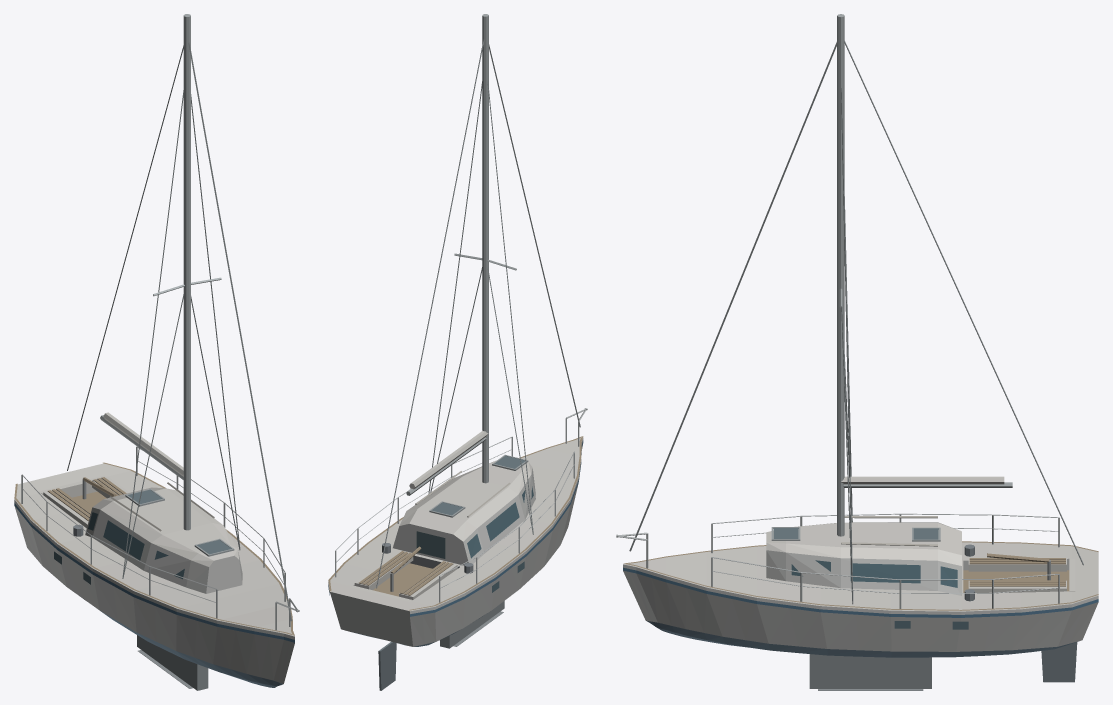
The model's file is kjp_sun_odyssey_24_2.glb.
3 views of the same model, side by side, from view 1: azimuth 30°, elevation 25°; view 2: azimuth 150°, elevation 25°; view 3: azimuth 270°, elevation 25° (orthographic). The views are drawn at different scales.
Visible parts, largest first — view 1: Jeanneau Sun Odyssey 24.2; view 2: Jeanneau Sun Odyssey 24.2; view 3: Jeanneau Sun Odyssey 24.2.
Boxes of the visible parts, <box> form: Jeanneau Sun Odyssey 24.2: <box>14,14,299,690</box>; Jeanneau Sun Odyssey 24.2: <box>328,14,587,690</box>; Jeanneau Sun Odyssey 24.2: <box>616,14,1098,690</box>.
Bounding box in the file's own units: 2.49 × 11.2 × 7.3.
